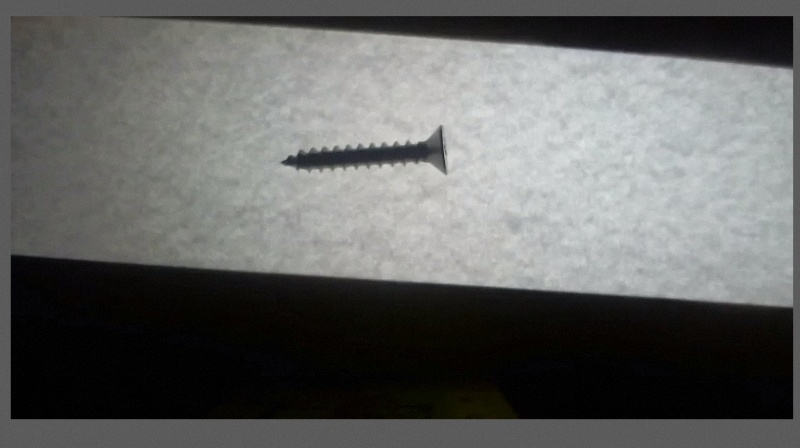S001: (277, 125, 451, 181)
